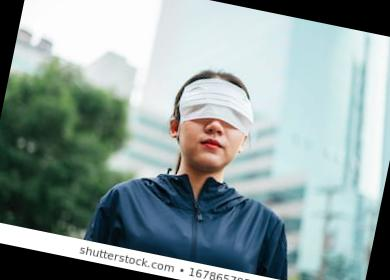mask_weared_incorrect: (177, 84, 250, 171)
